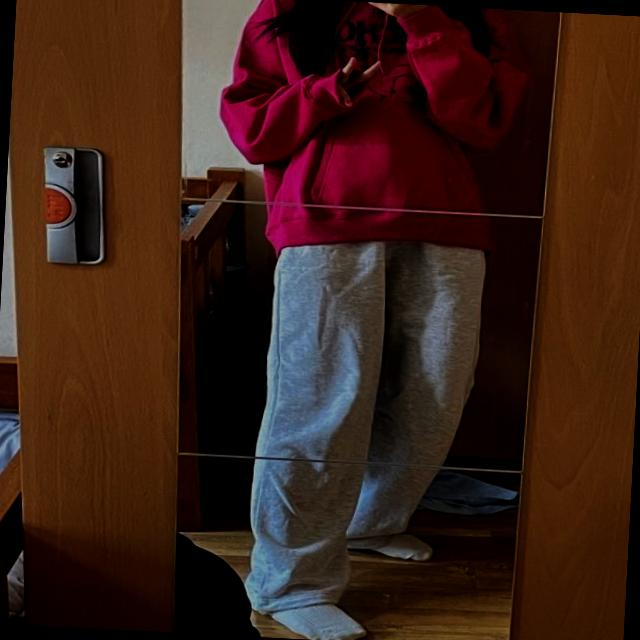hoodies: (208, 0, 525, 263)
trainingpants: (251, 232, 492, 628)
